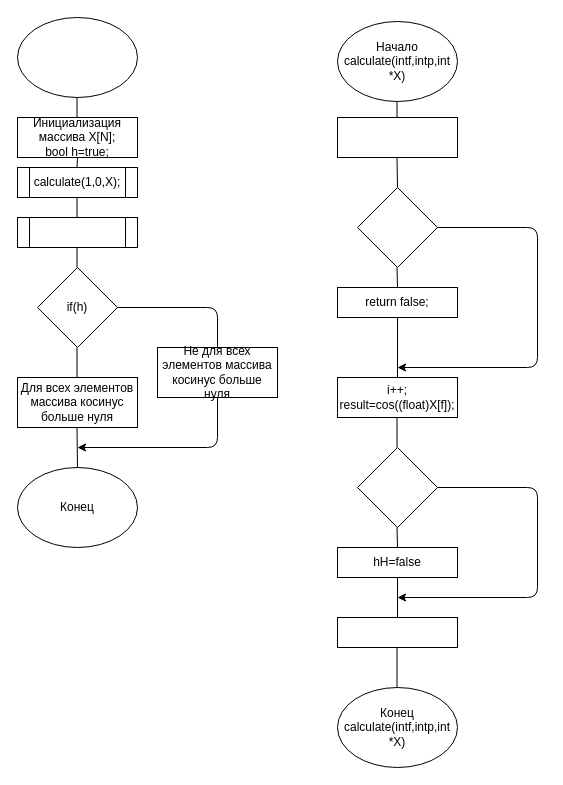
Image size: 563x785. Some labels were removed from this diagram. The centre of each missing label's shape, as x and y in pixels:
bool Hh=true; int i=1; double result=0;: point 397,137
calculate(5,2,X);: point 77,232
if(f==p-1): point 397,227
if(result<=0): point 397,487
Вывод результата: point 397,632
Начало: point 77,57
